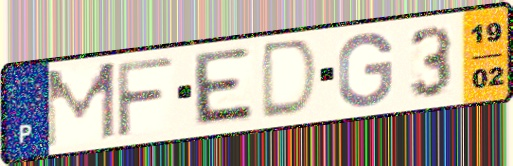3: (406, 23, 455, 100)
D: (257, 36, 323, 122)
E: (190, 45, 258, 129)
F: (114, 55, 177, 141)
G: (335, 30, 396, 110)
M: (42, 58, 118, 151)
